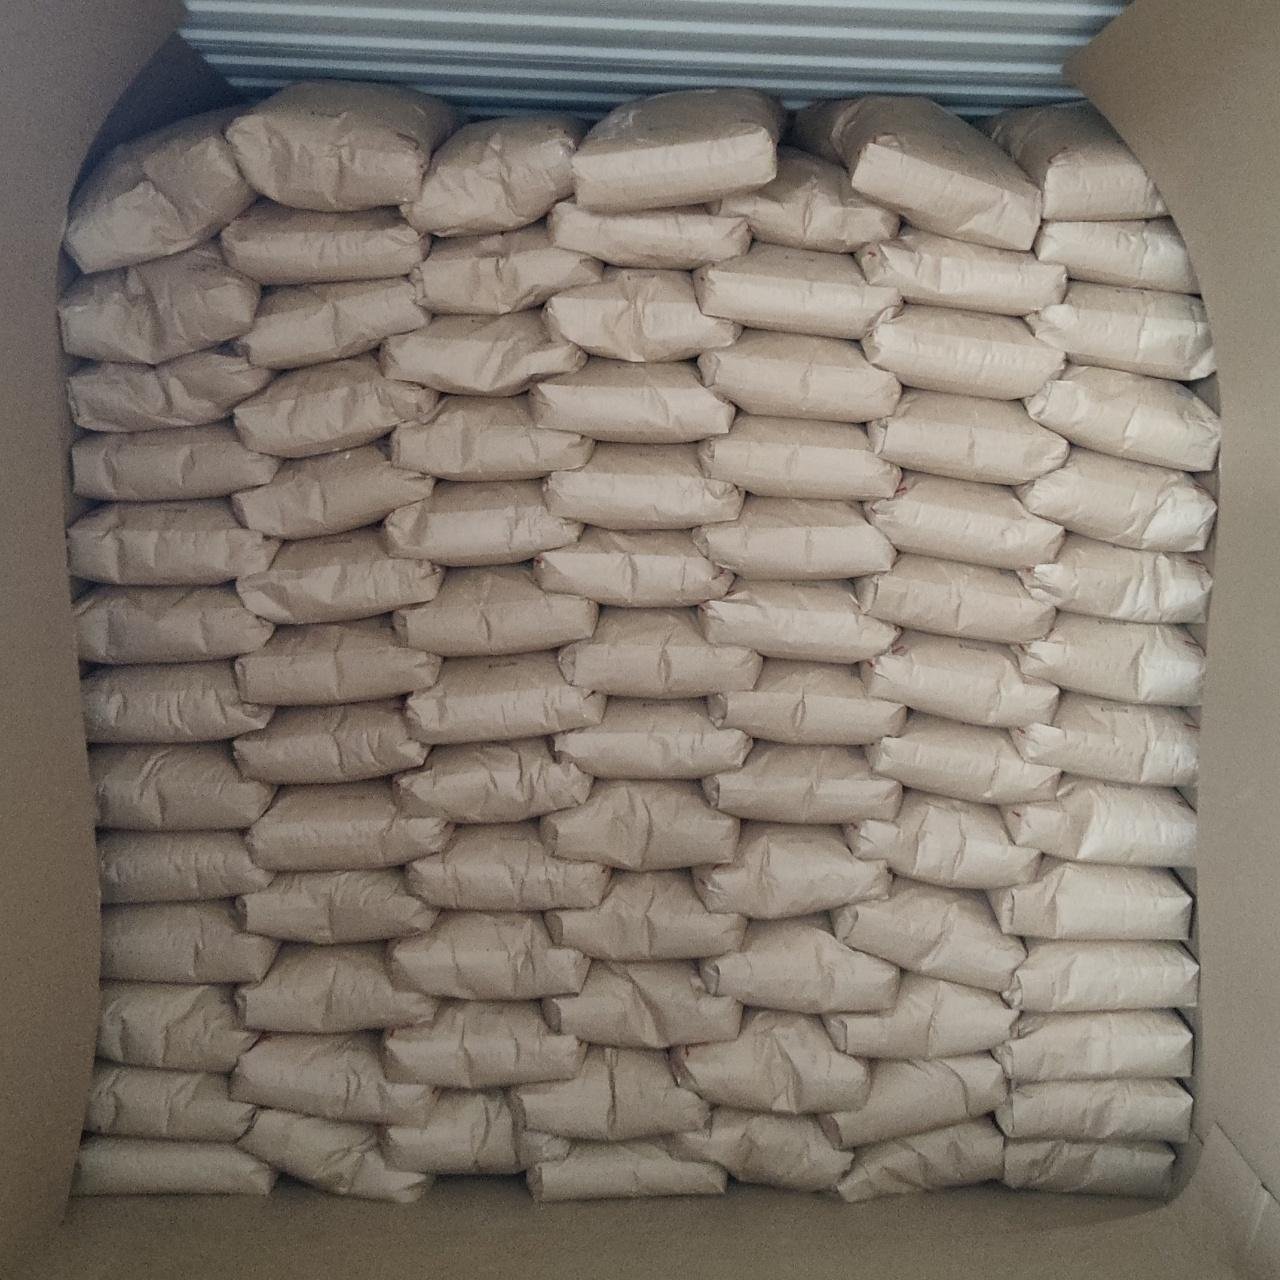sack: (794, 96, 1042, 249), (65, 107, 259, 272), (226, 81, 460, 210), (572, 90, 784, 210), (59, 241, 260, 365), (401, 113, 588, 236), (832, 877, 1021, 991), (234, 353, 439, 457), (988, 103, 1168, 221), (1024, 365, 1220, 471), (1015, 447, 1215, 549), (671, 1011, 869, 1113), (694, 241, 900, 339), (700, 914, 899, 1013), (237, 529, 443, 623), (692, 822, 891, 919), (867, 389, 1068, 484), (246, 779, 453, 871), (865, 472, 1063, 568), (855, 225, 1066, 315), (861, 304, 1063, 398), (230, 1032, 436, 1124), (860, 631, 1057, 727), (717, 147, 897, 252), (1027, 280, 1215, 380), (696, 330, 900, 422), (392, 565, 598, 656), (846, 791, 1039, 888), (233, 445, 434, 538), (511, 1046, 708, 1140), (558, 607, 761, 698), (234, 616, 441, 705), (405, 652, 605, 744), (236, 941, 436, 1033), (544, 268, 740, 361), (232, 277, 431, 368), (540, 780, 739, 871), (545, 870, 746, 960), (68, 499, 280, 584), (379, 309, 587, 395), (1001, 775, 1197, 866), (386, 912, 588, 1000), (220, 199, 429, 284), (1010, 613, 1203, 705), (405, 821, 609, 908), (381, 1001, 585, 1088), (530, 357, 735, 443), (854, 554, 1054, 642), (820, 1053, 1006, 1147), (866, 714, 1060, 804), (388, 395, 593, 480), (375, 1088, 572, 1176), (1011, 693, 1197, 786), (238, 1111, 430, 1201), (409, 225, 603, 314), (821, 972, 1019, 1059), (545, 961, 742, 1048), (1018, 535, 1212, 623), (697, 415, 900, 499), (384, 480, 582, 566), (544, 443, 743, 528), (393, 737, 592, 822), (705, 660, 906, 744), (989, 856, 1190, 940), (692, 495, 895, 578), (72, 420, 281, 500), (233, 699, 429, 784), (68, 350, 273, 431), (698, 580, 898, 662), (702, 739, 901, 821), (90, 742, 274, 830), (552, 699, 752, 779), (534, 526, 732, 606), (74, 584, 274, 663), (664, 1107, 853, 1190), (83, 660, 273, 742), (235, 869, 438, 944), (992, 1010, 1191, 1084), (102, 900, 278, 983), (98, 982, 258, 1072), (84, 1058, 255, 1142), (838, 1117, 1004, 1201), (547, 201, 752, 269), (1001, 942, 1198, 1012), (97, 831, 274, 903), (1034, 218, 1199, 294), (995, 1080, 1192, 1141), (526, 1142, 728, 1201), (72, 1137, 276, 1195), (1002, 1140, 1175, 1197)
